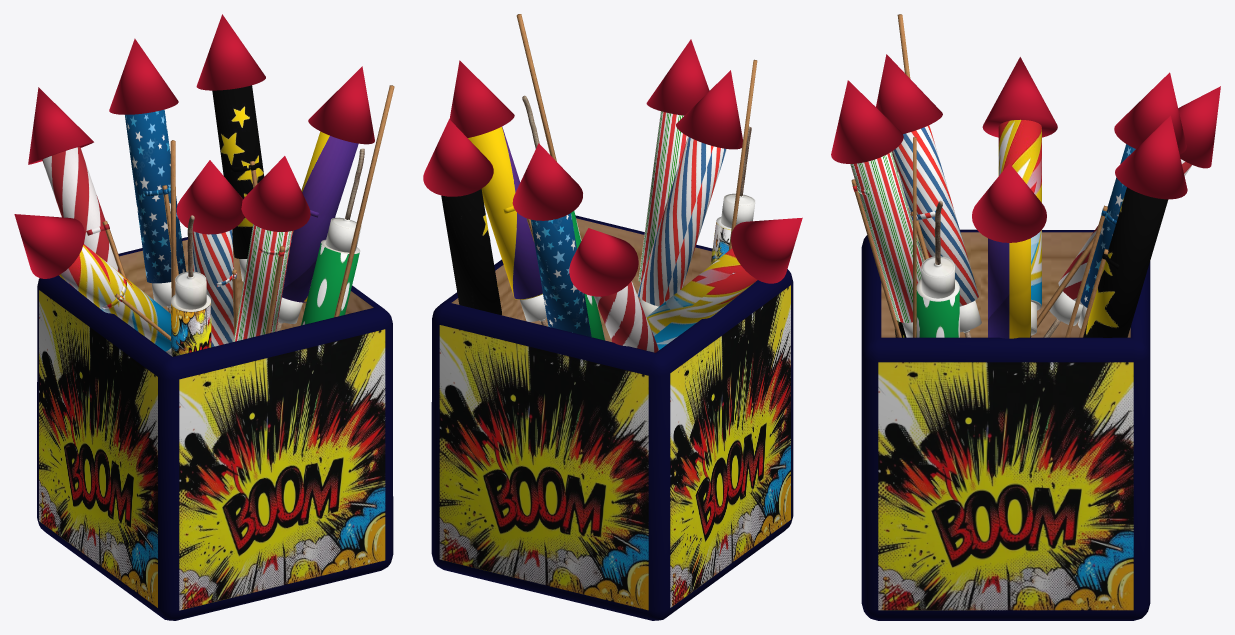
File: fireworks_B.fbx
3 renders of one model, left to right at view 1: azimuth 30°, elevation 25°; view 2: azimuth 150°, elevation 25°; view 3: azimuth 270°, elevation 25°, orthographic. The views are drawn at different scales.
Parts seen in each view (by area): view 1: Box_fireworks, Cylinder.017, Cylinder.021, Cylinder.001, Cylinder.013, Cylinder.005, Cylinder.009, Cylinder.033, Cone.003, Cone.001, Cone.008, Cone.005 (+9 smaller); view 2: Box_fireworks, Cylinder.033, Cylinder.021, Cylinder.001, Cylinder.017, Cylinder.013, Cone.002, Cone.003, Cone, Cone.004, Cylinder.005, Cone.008 (+9 smaller); view 3: Box_fireworks, Cylinder.001, Cylinder.005, Cylinder.033, Cylinder.021, Cone.005, Cone, Cone.001, Cylinder.013, Cone.008, Cone.003, Cone.004 (+11 smaller).
Boxes of the visible parts, x1,y1,x2,y2 form: Box_fireworks: (37, 237, 393, 620); Cylinder.017: (125, 109, 186, 283); Cylinder.021: (282, 131, 358, 302); Cylinder.001: (212, 85, 264, 258); Cylinder.013: (58, 244, 171, 351); Cylinder.005: (233, 224, 292, 341); Cylinder.009: (42, 147, 119, 272); Cylinder.033: (192, 229, 234, 347); Cone.003: (14, 214, 84, 278); Cone.001: (241, 156, 310, 231); Cone.008: (176, 160, 244, 234); Cone.005: (308, 66, 374, 144); Box_fireworks: (431, 215, 793, 620); Cylinder.033: (637, 136, 726, 306); Cylinder.021: (468, 126, 542, 299); Cylinder.001: (441, 189, 501, 315); Cylinder.017: (531, 213, 591, 336); Cylinder.013: (646, 248, 757, 349); Cone.002: (569, 228, 638, 296); Cone.003: (731, 217, 802, 283); Cone: (423, 119, 493, 196); Cone.004: (512, 143, 582, 220); Cylinder.005: (638, 111, 687, 282); Cone.008: (676, 70, 742, 149); Box_fireworks: (861, 229, 1150, 620); Cylinder.001: (1083, 187, 1168, 337); Cylinder.005: (850, 152, 923, 322); Cylinder.033: (892, 125, 978, 306); Cylinder.021: (988, 238, 1030, 338); Cone.005: (972, 163, 1046, 242); Cone: (1115, 115, 1187, 199); Cone.001: (831, 80, 903, 163); Cylinder.013: (998, 119, 1041, 310); Cone.008: (876, 54, 942, 133); Cone.003: (982, 57, 1057, 137); Cone.004: (1114, 72, 1186, 154).
Size of the model in its own units: 24.31 by 31.06 by 21.81.
Materials: 15 (15 with a texture image).
